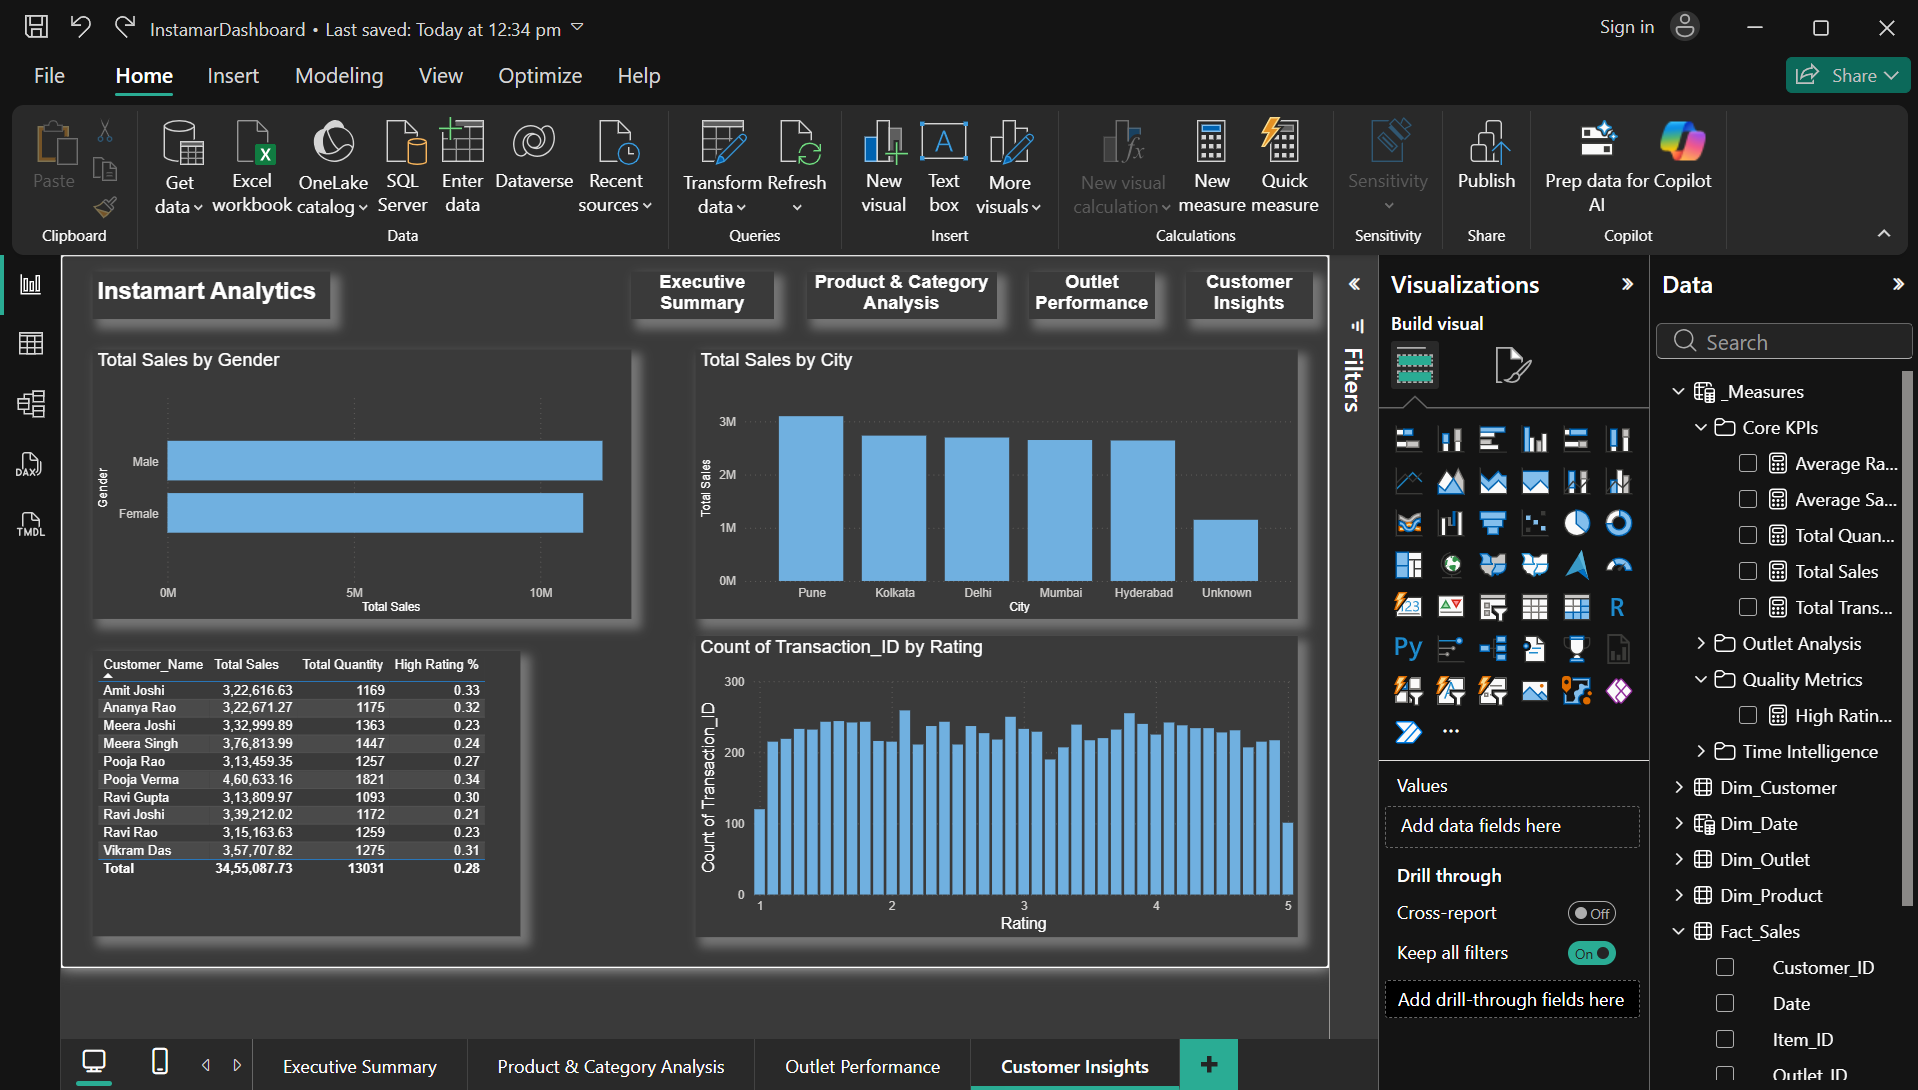

This screenshot's page, from the dashboard's own definition file:
{"tool":"powerbi","page":{"name":"Customer Insights ","canvas":[1280,720],"ordinal":3},"visuals":[{"type":"textbox","box":[16,0,256,48],"z":0},{"type":"actionButton","title":"Executive Summary","box":[512,0,144,48],"z":1000},{"type":"actionButton","title":"Product & Category Analysis","box":[704,0,176,48],"z":2000},{"type":"actionButton","title":"Outlet Performance","box":[944,0,112,48],"z":3000},{"type":"actionButton","title":"Customer Insights ","box":[1120,0,128,48],"z":4000},{"type":"barChart","fields":{"Category":["Dim_Customer.Gender"],"Y":["_Measures.Total Sales"]},"box":[32,96,464,160],"z":5000},{"type":"clusteredColumnChart","fields":{"Category":["Dim_Customer.City"],"Y":["_Measures.Total Sales"]},"box":[688,96,464,160],"z":6000},{"type":"tableEx","fields":{"Values":["Dim_Customer.Customer_Name","_Measures.Total Sales"]},"box":[128,336,224,288],"z":7000},{"type":"clusteredColumnChart","fields":{"Category":["Fact_Sales.Rating"],"Y":["CountNonNull(Fact_Sales.Transaction_ID)"]},"box":[688,304,416,304],"z":8000}]}

Visuals, with their boxes on the page's 1280x720 design canvas (x1, y1, x2, y2). These are canvas units, not pixel positions in the 1918x1090 screenshot, which may show the page scaled, cropped or inside an application window:
textbox: box=[16, 0, 272, 48]
"Executive Summary" actionButton: box=[512, 0, 656, 48]
"Product & Category Analysis" actionButton: box=[704, 0, 880, 48]
"Outlet Performance" actionButton: box=[944, 0, 1056, 48]
"Customer Insights " actionButton: box=[1120, 0, 1248, 48]
barChart - Dim_Customer.Gender x _Measures.Total Sales: box=[32, 96, 496, 256]
clusteredColumnChart - Dim_Customer.City x _Measures.Total Sales: box=[688, 96, 1152, 256]
tableEx - Dim_Customer.Customer_Name x _Measures.Total Sales: box=[128, 336, 352, 624]
clusteredColumnChart - Fact_Sales.Rating x CountNonNull(Fact_Sales.Transaction_ID): box=[688, 304, 1104, 608]
